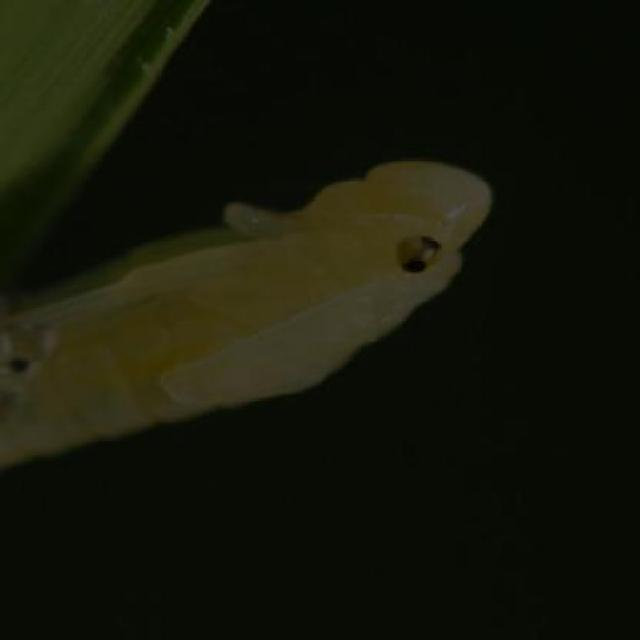green-leafhopper: (0, 163, 491, 452)
